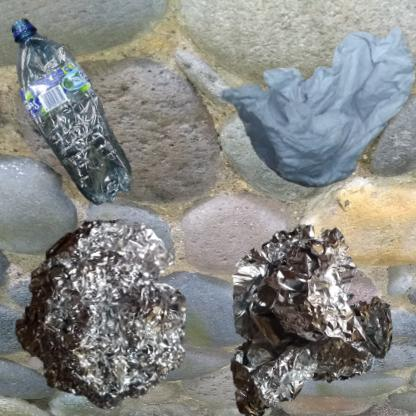aluminio: (213, 213, 407, 416), (10, 213, 193, 416)
botella: (10, 10, 139, 219)
papel: (213, 10, 416, 198)
